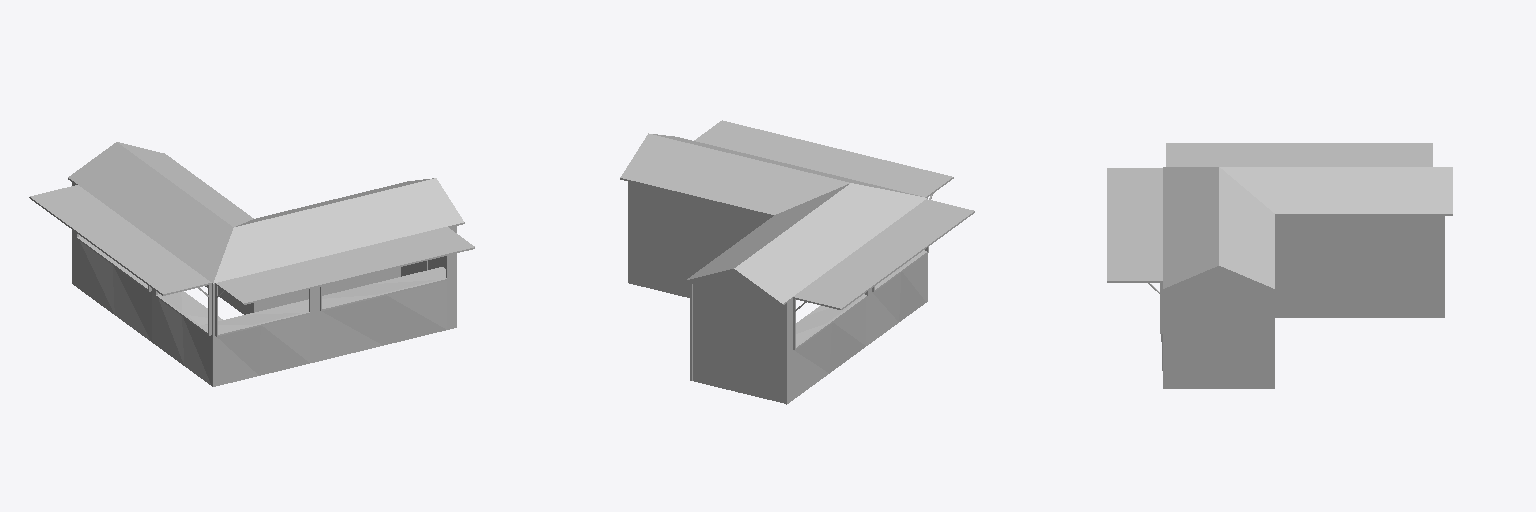
Rendered from testennn.obj.
3 views of the same model, side by side, from view 1: azimuth 30°, elevation 25°; view 2: azimuth 150°, elevation 25°; view 3: azimuth 270°, elevation 25° (orthographic).
Parts seen in each view (by area): view 1: testttt; view 2: testttt; view 3: testttt.
Boxes of the visible parts, box(x1,y1,x2,y2) form: testttt: box(29, 142, 474, 386); testttt: box(620, 120, 974, 404); testttt: box(1107, 143, 1452, 388).
Bounding box in the file's own units: 37 × 15 × 37.